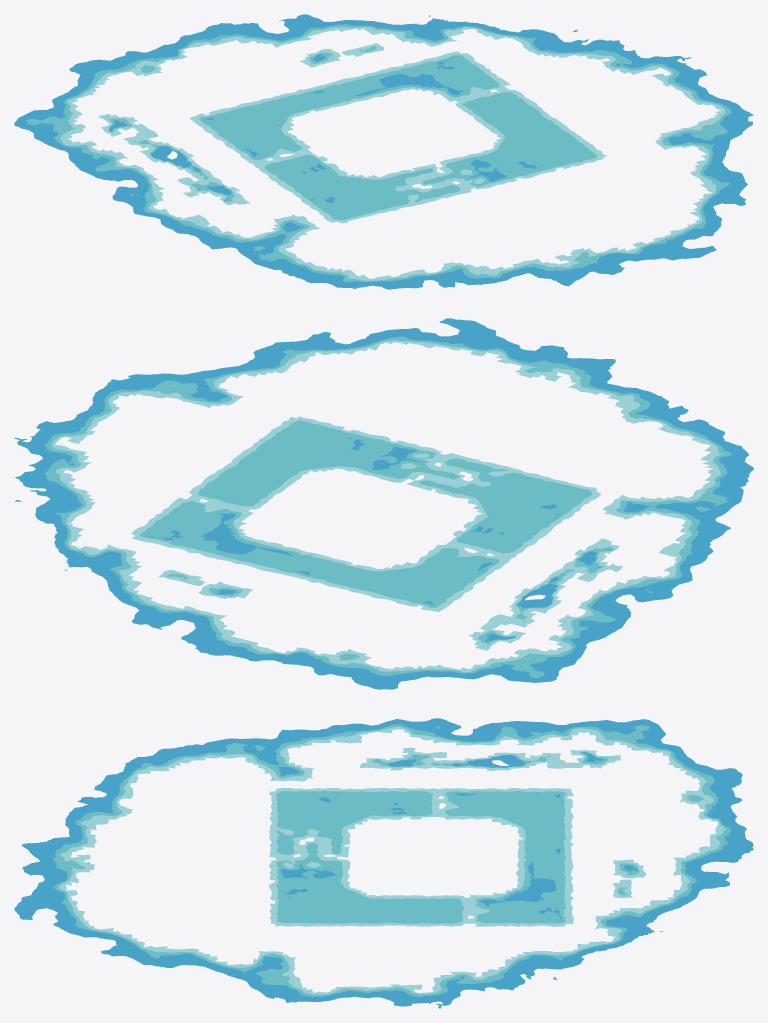
File: Isl-orc4-Water.fbx
3 renders of one model, top to bottom at view 1: azimuth 30°, elevation 25°; view 2: azimuth 150°, elevation 25°; view 3: azimuth 270°, elevation 25°, orthographic. The views are drawn at different scales.
Visible parts, largest first — view 1: Isl-orc4-Water; view 2: Isl-orc4-Water; view 3: Isl-orc4-Water.
Boxes of the visible parts, x1,y1,x2,y2 form: Isl-orc4-Water: [14, 14, 753, 289]; Isl-orc4-Water: [14, 318, 753, 689]; Isl-orc4-Water: [14, 718, 753, 1008].
Bounding box in the file's own units: 114 × 0 × 123.
